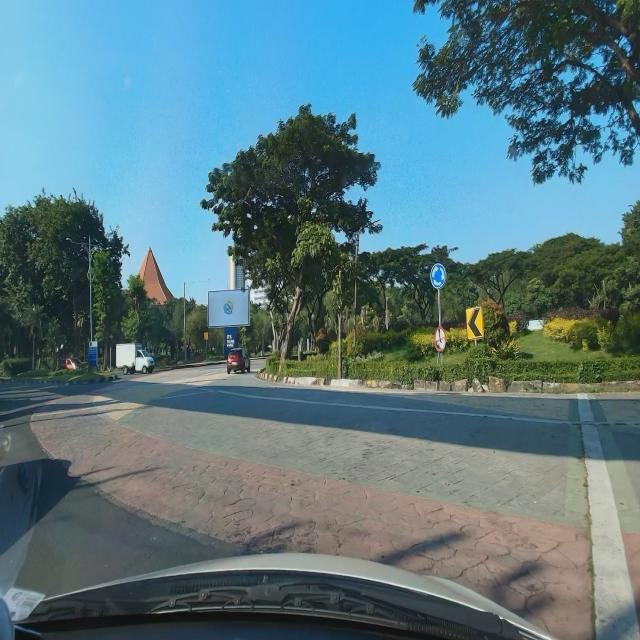car: (227, 347, 251, 375)
license-plate: (232, 362, 237, 364)
